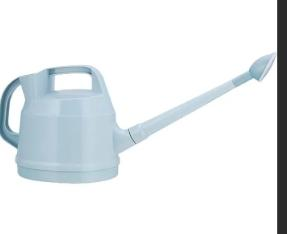ARROSOIR: (0, 49, 278, 182)
